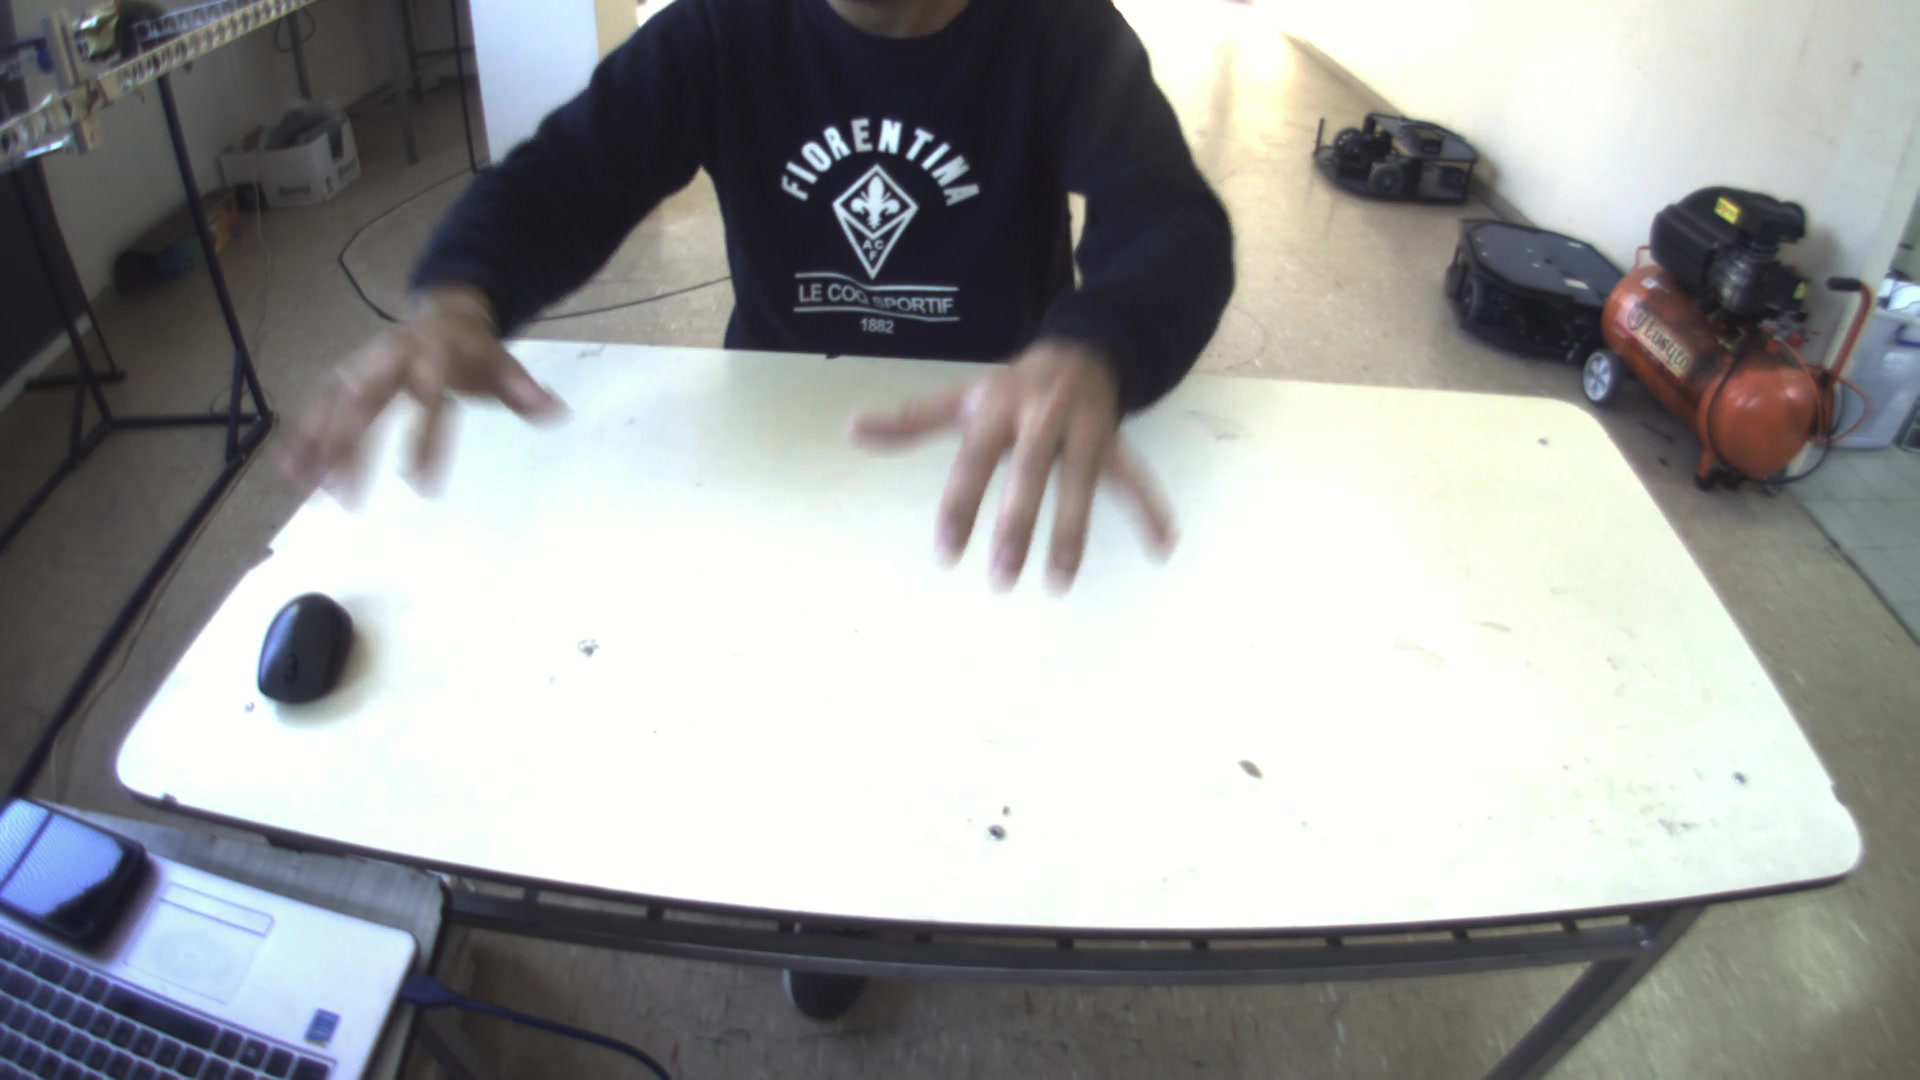hand: (843, 324, 1183, 601), (265, 272, 564, 517)
